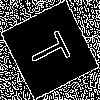T: (25, 25, 80, 73)
